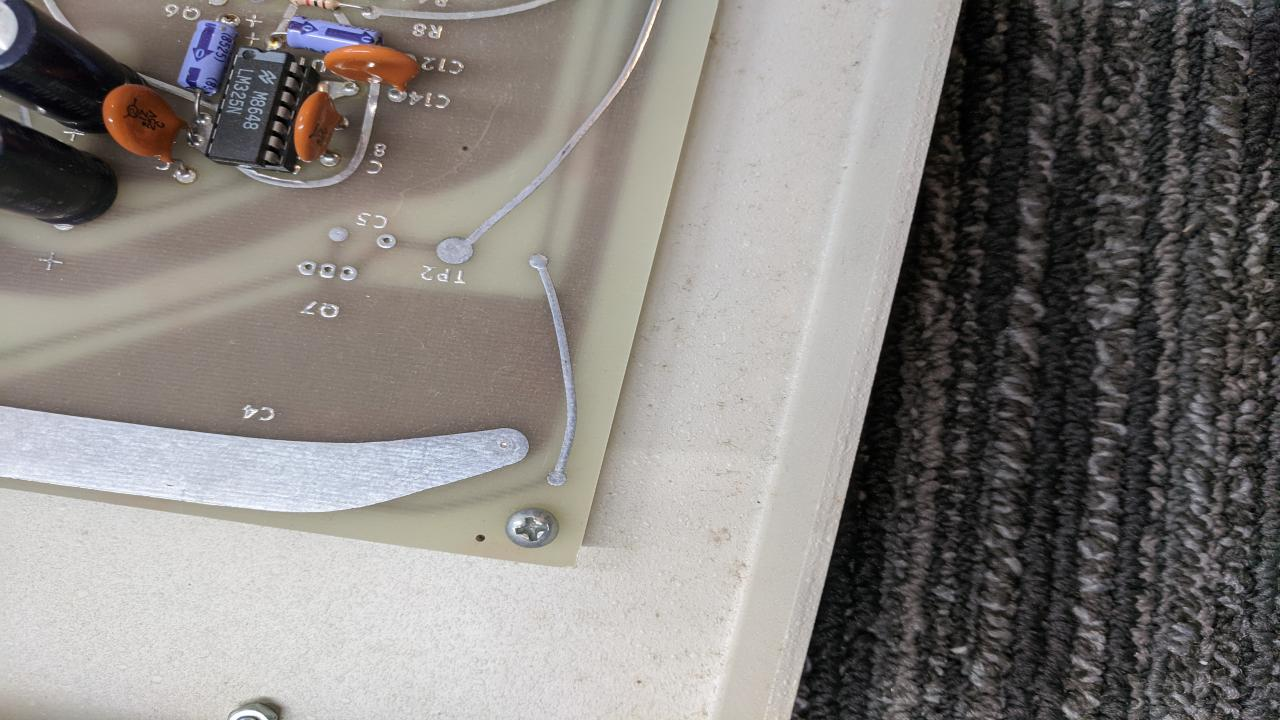CRS: (502, 503, 557, 545)
